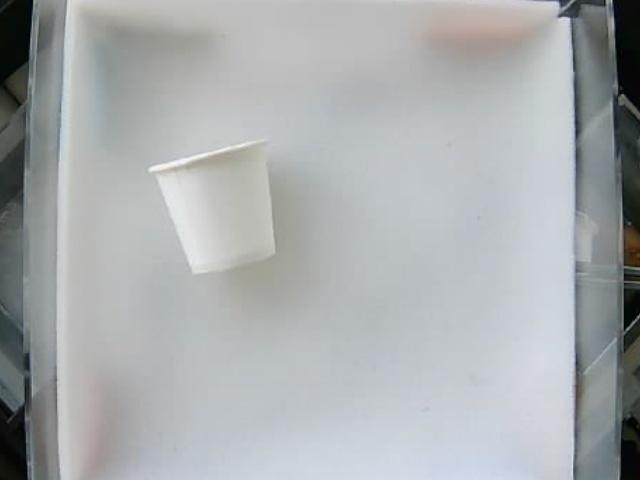Cup: (148, 141, 279, 276)
